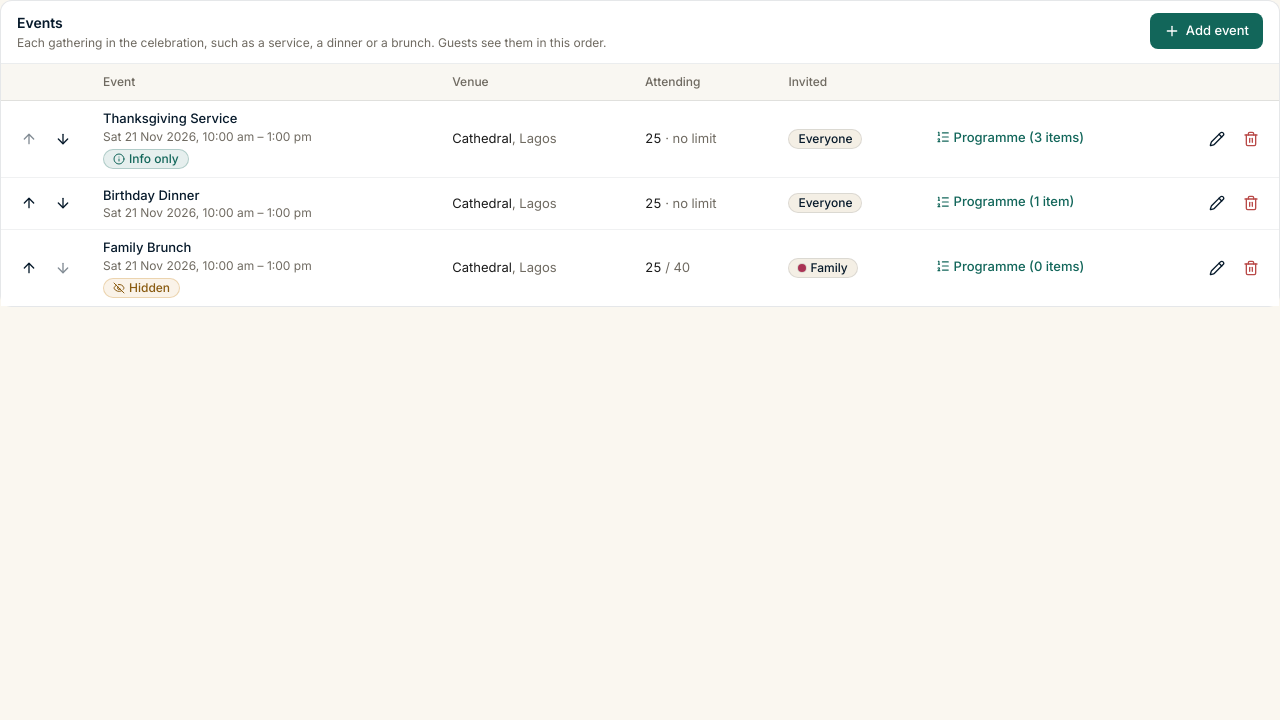
Test case: EventsSection › shows why the API refuses a delete
Click the button named "Delete Birthday Dinner". click: {"x": 1251, "y": 203}
box: [1235, 187, 1267, 219]
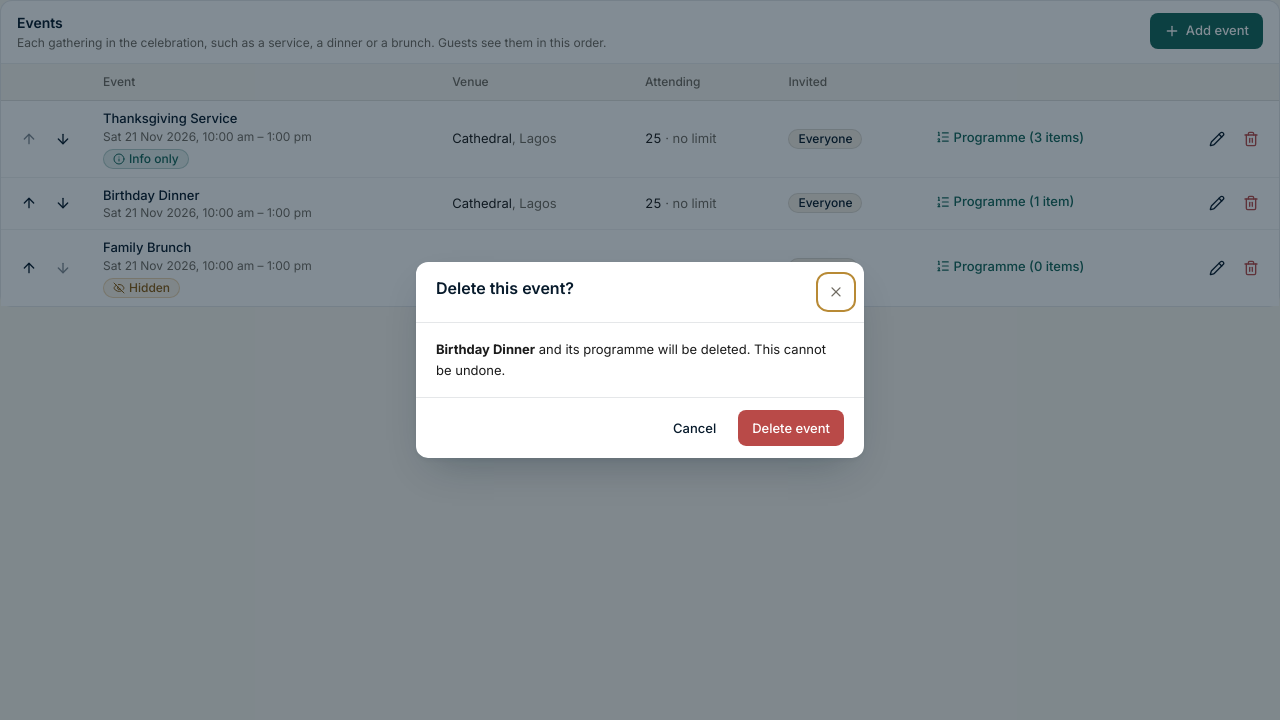
Click the button "Delete event". click: {"x": 791, "y": 428}
box: [738, 410, 844, 446]
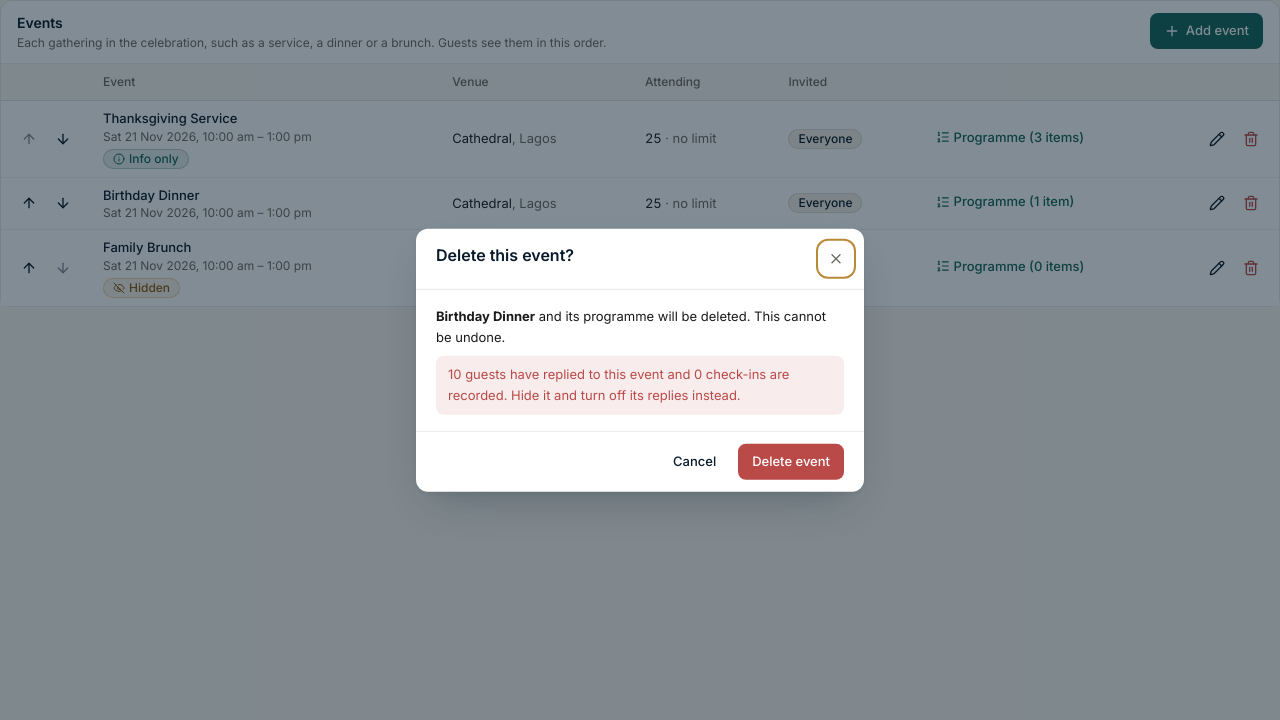
Check: the message shows "Hide it and turn off its replies instead.", box [448, 366, 789, 403]
